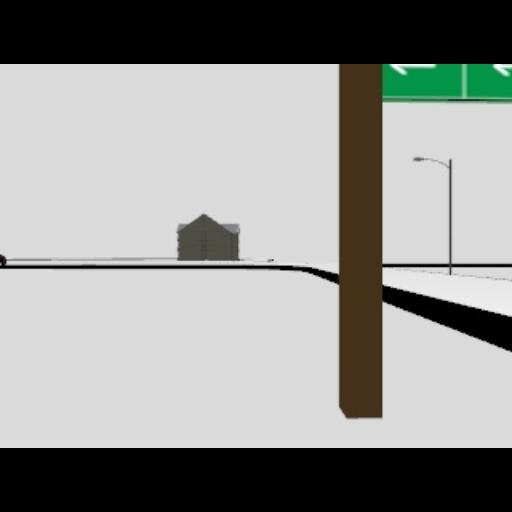Left: (388, 64, 440, 76), (492, 64, 510, 76)
